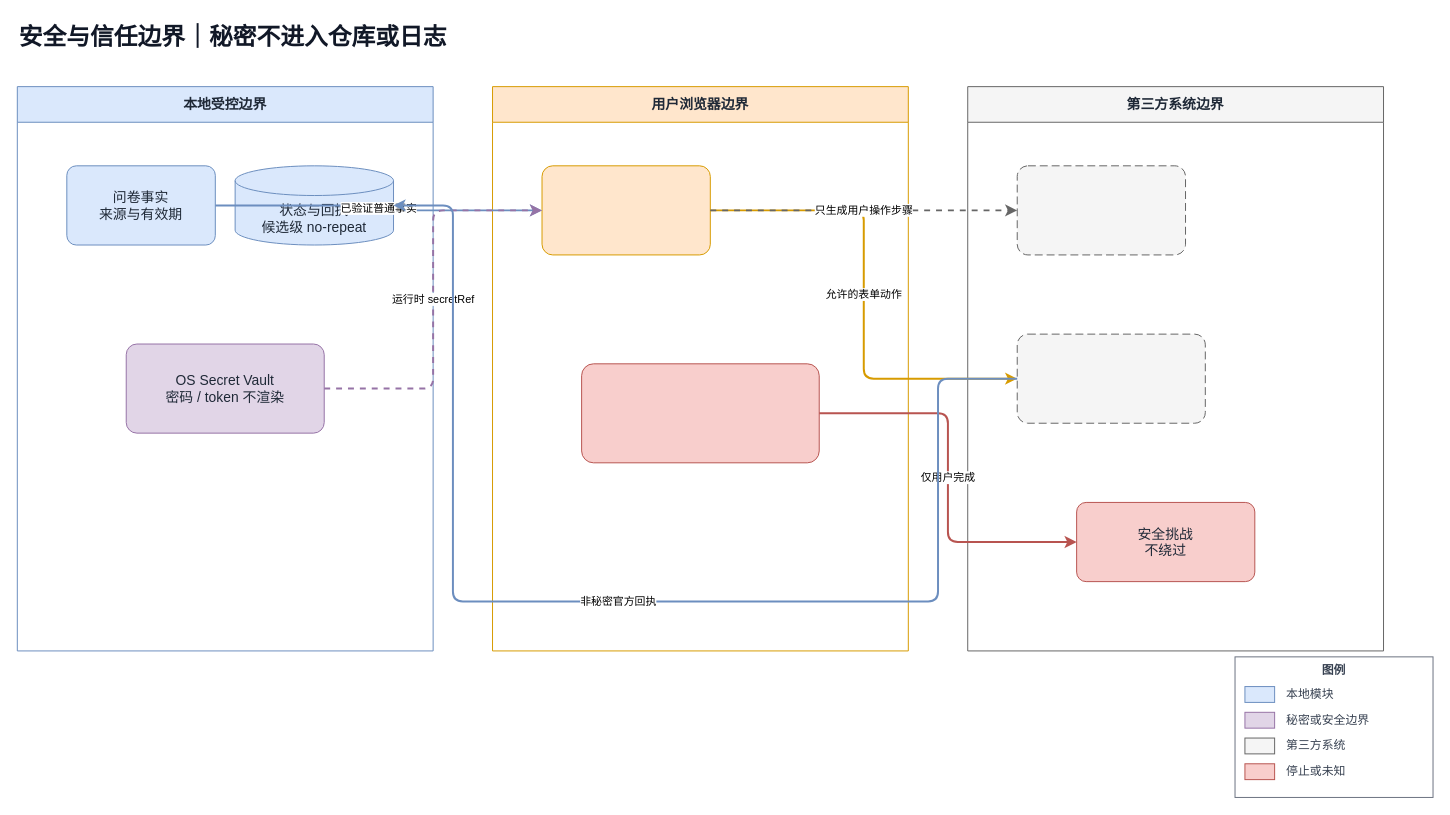
This 1450x815 diagram has some shape labels left out. Here are the shapes that lost their labels. From the top down, the centre of each, then its label:
At pixel 625 210: "候选级适配器 精确 HTTPS 与域名".
At pixel 1101 210: "Simplify 官方 UI 仅用户/官方功能".
At pixel 1110 378: "雇主门户 逐站条款与 allowlist".
At pixel 700 413: "人工安全动作 CAPTCHA / OTP / OAuth".
